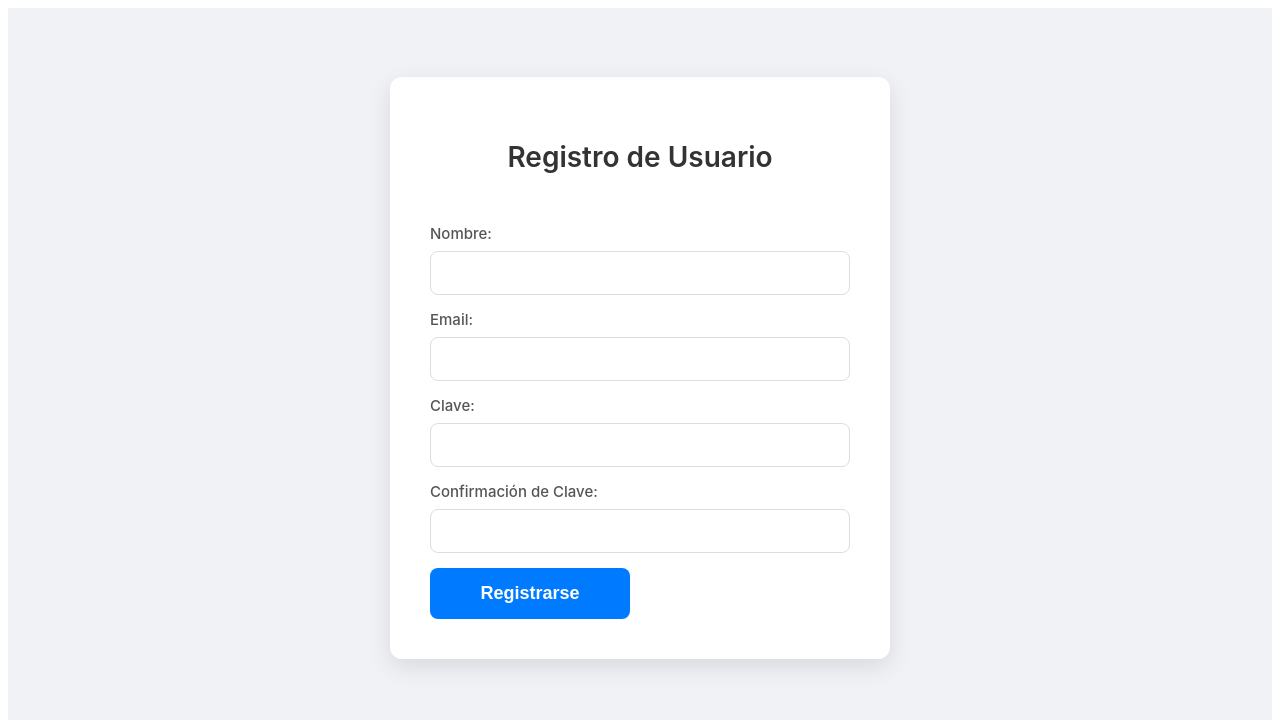
it: Registro de Usuario › Registro Exitoso con Datos Válidos
Check: the heading "Registro de Usuario" is shown, box [507,140,772,174]
Step 1. Type "Juan Perez" into the field with id "name" → coordinates (640, 273), box [430,251,850,295]
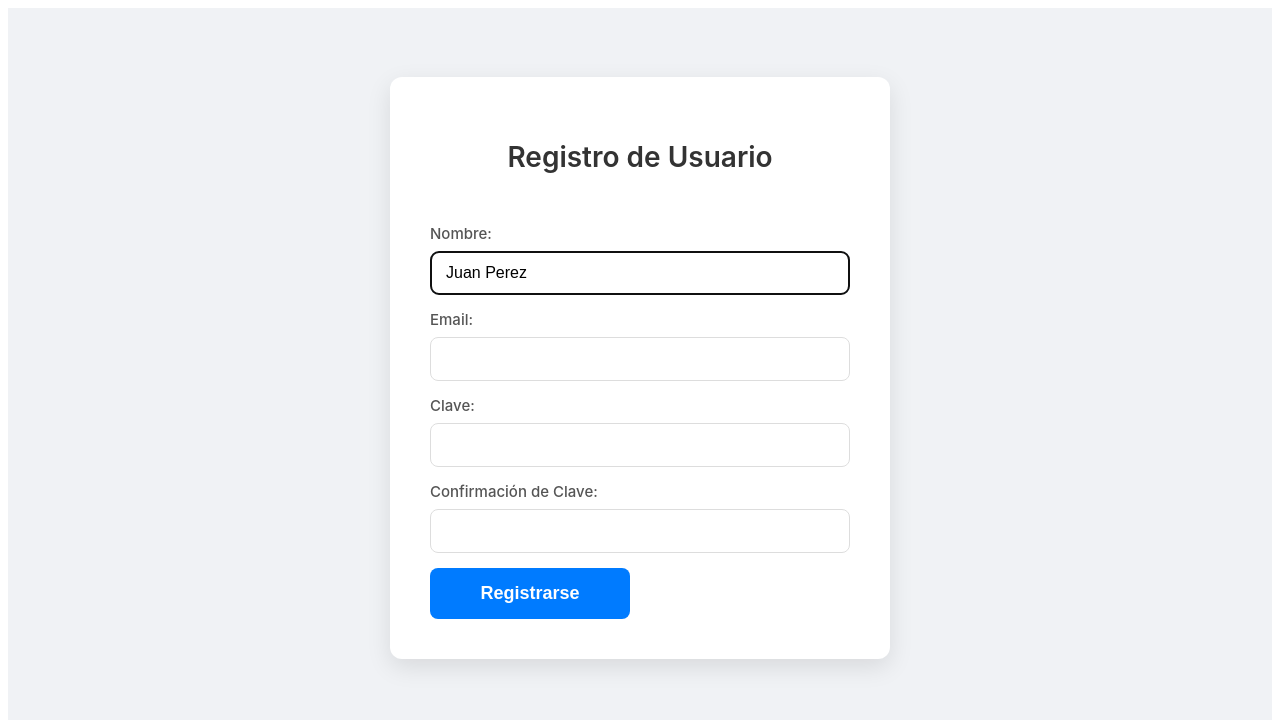
Step 2. Type "juan.perez@example.com" into the field with id "email" → coordinates (640, 359), box [430,337,850,381]
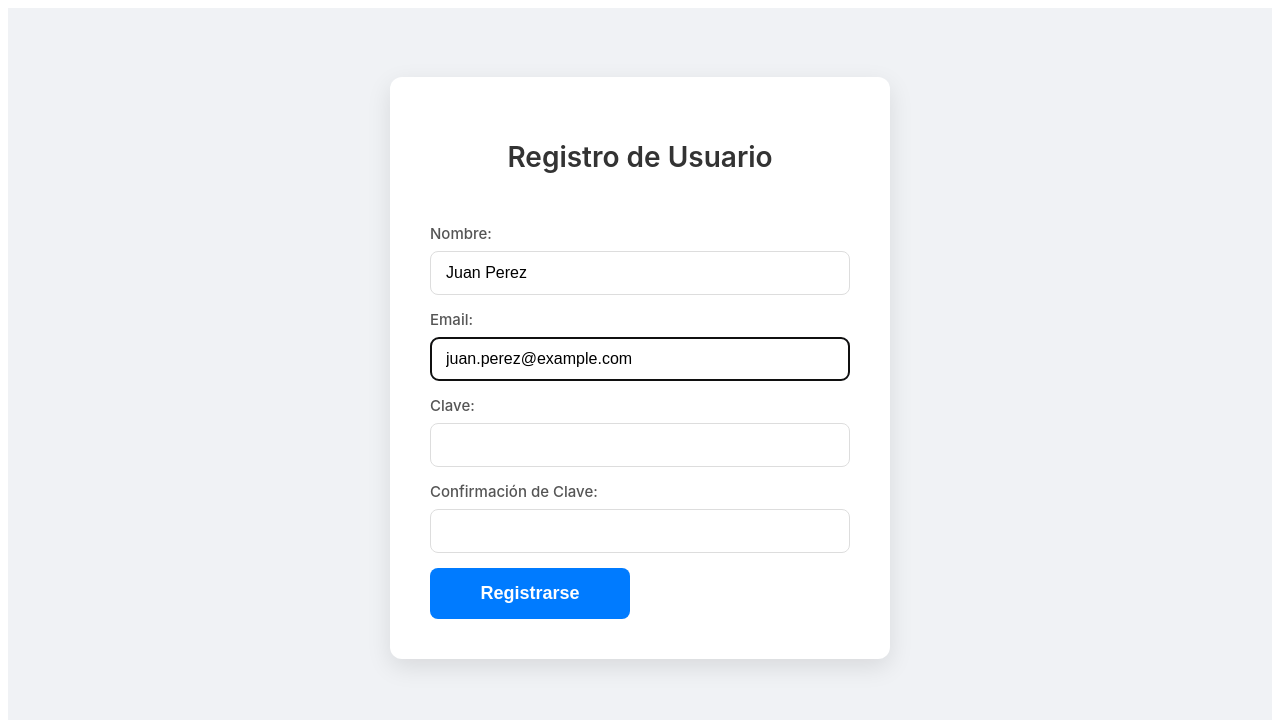
Step 3. Type "ClaveSegura123" into the password field labelled "Clave:" → coordinates (640, 445), box [430,423,850,467]
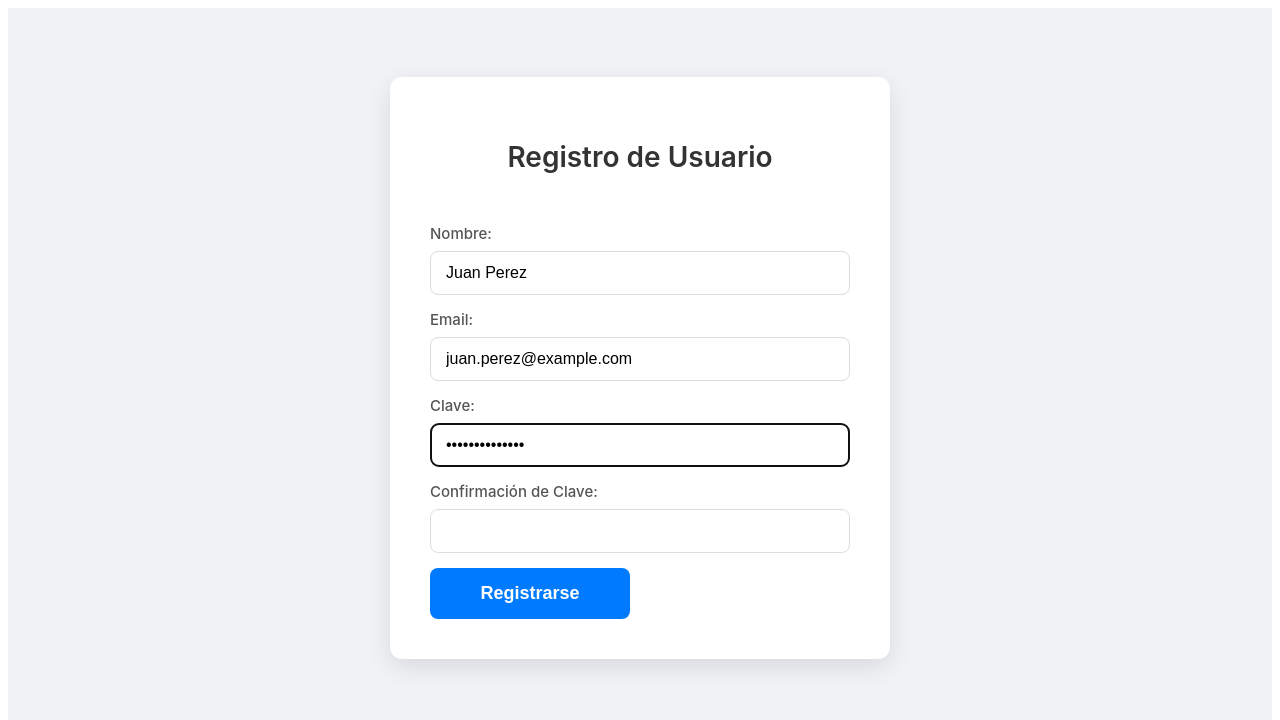
Step 4. Type "ClaveSegura123" into the password field with id "confirmPassword" → coordinates (640, 531), box [430,509,850,553]
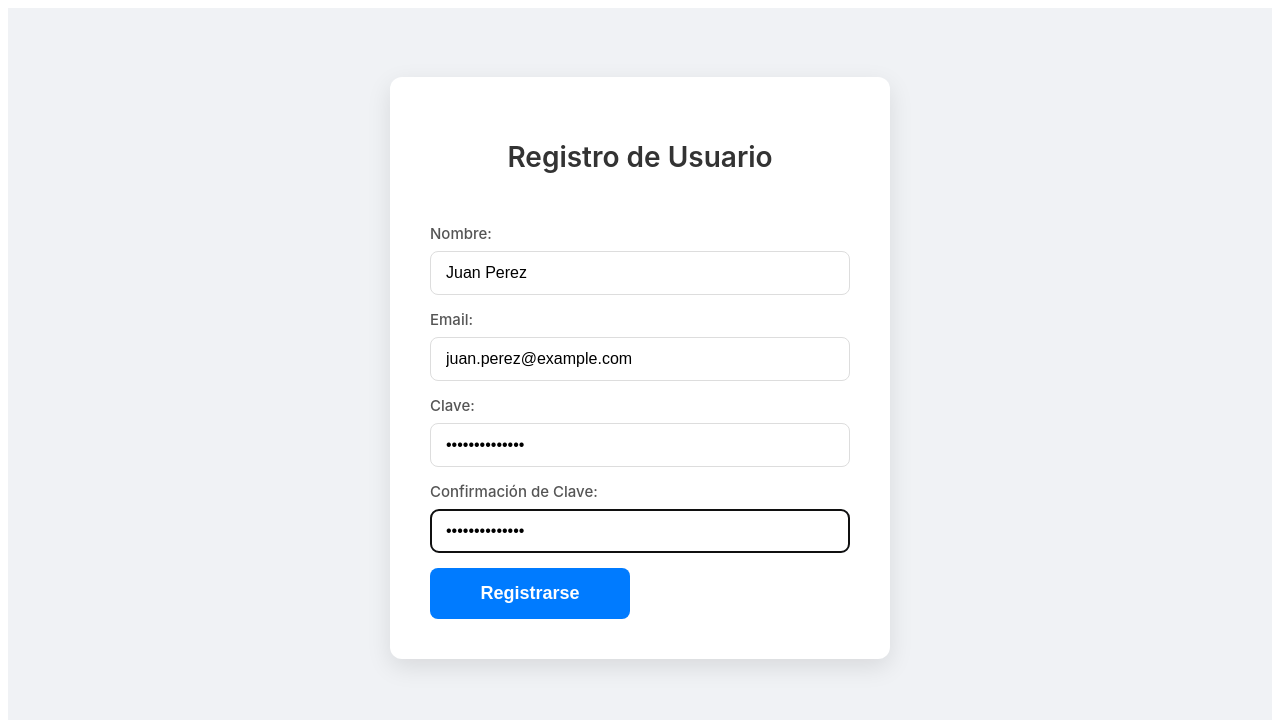
Step 5. Click the button "Registrarse" → coordinates (530, 594), box [430,568,630,619]
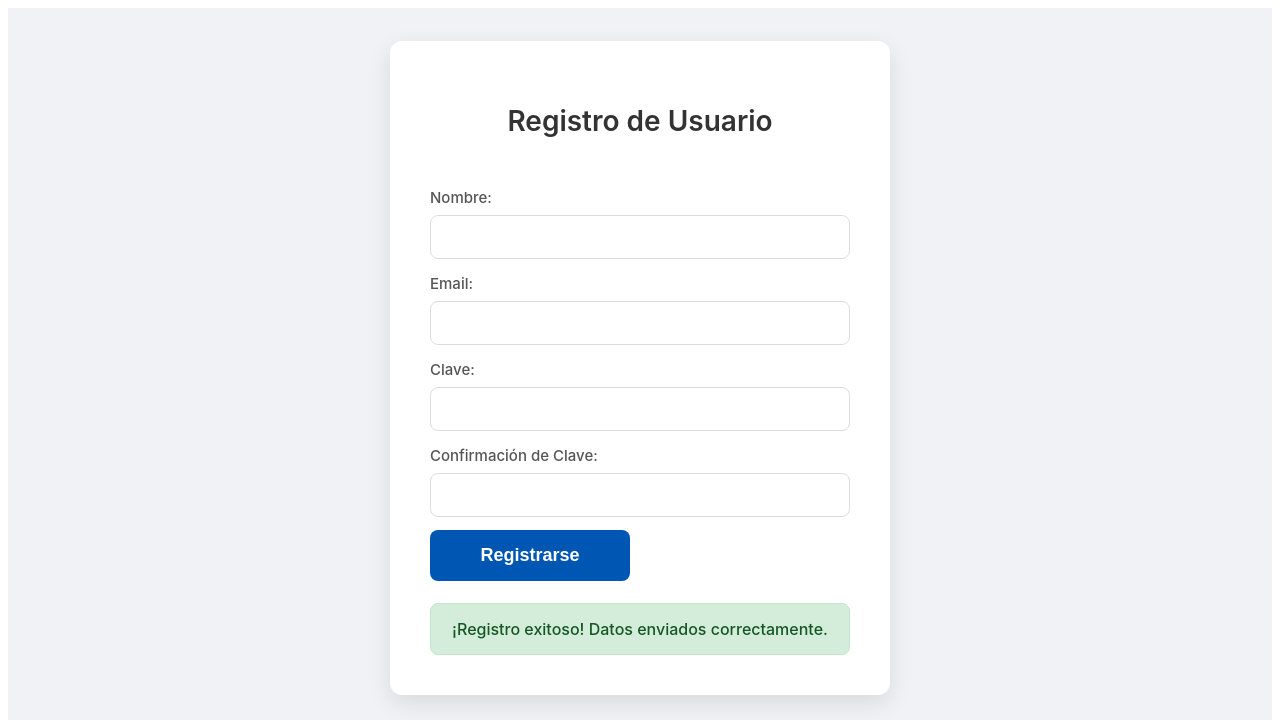
Check: the text "¡Registro exitoso! Datos enviados correctamente." is shown, box [430,603,850,655]
